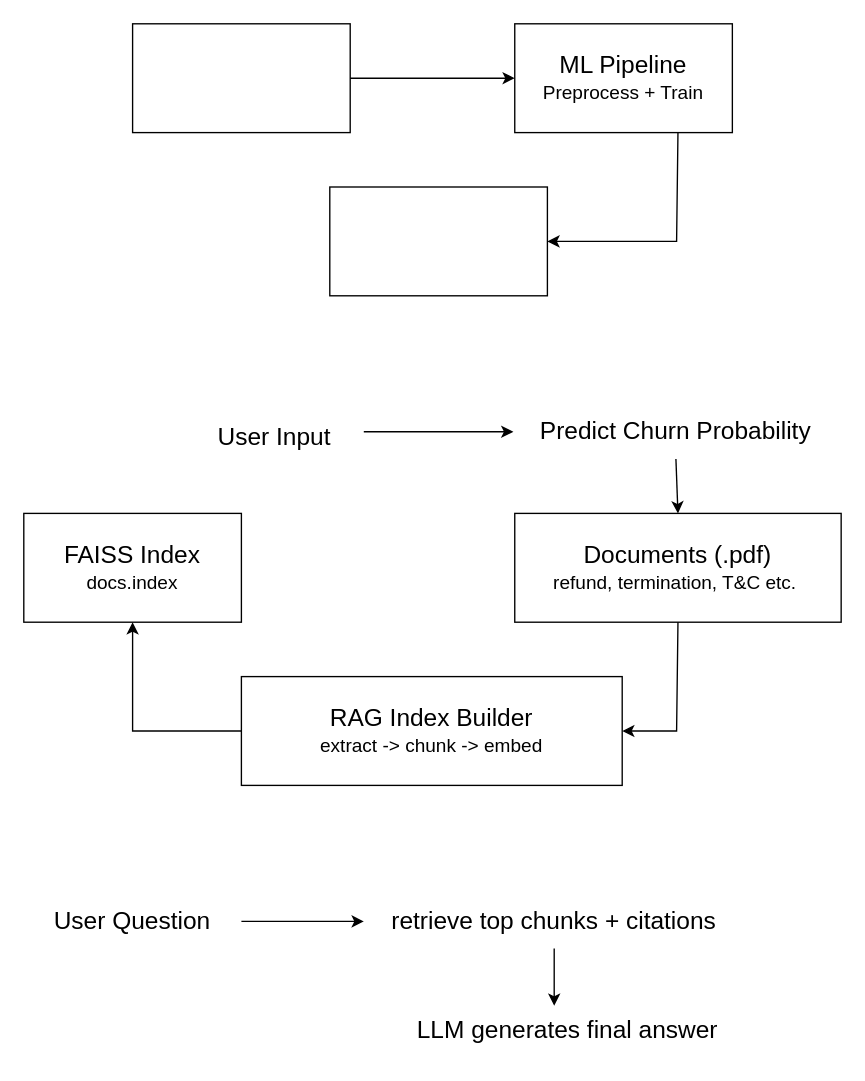
The diagram is 865 pixels wide and 1081 high, and some of its shapes have lost their labels. The shapes that lost their labels are listed below. From the top down, each one's centre as x and y in pixels, then its label:
At point 240,77: "Data churn_clean.csv".
At point 437,241: "Saved Model churn_model.joblib".
